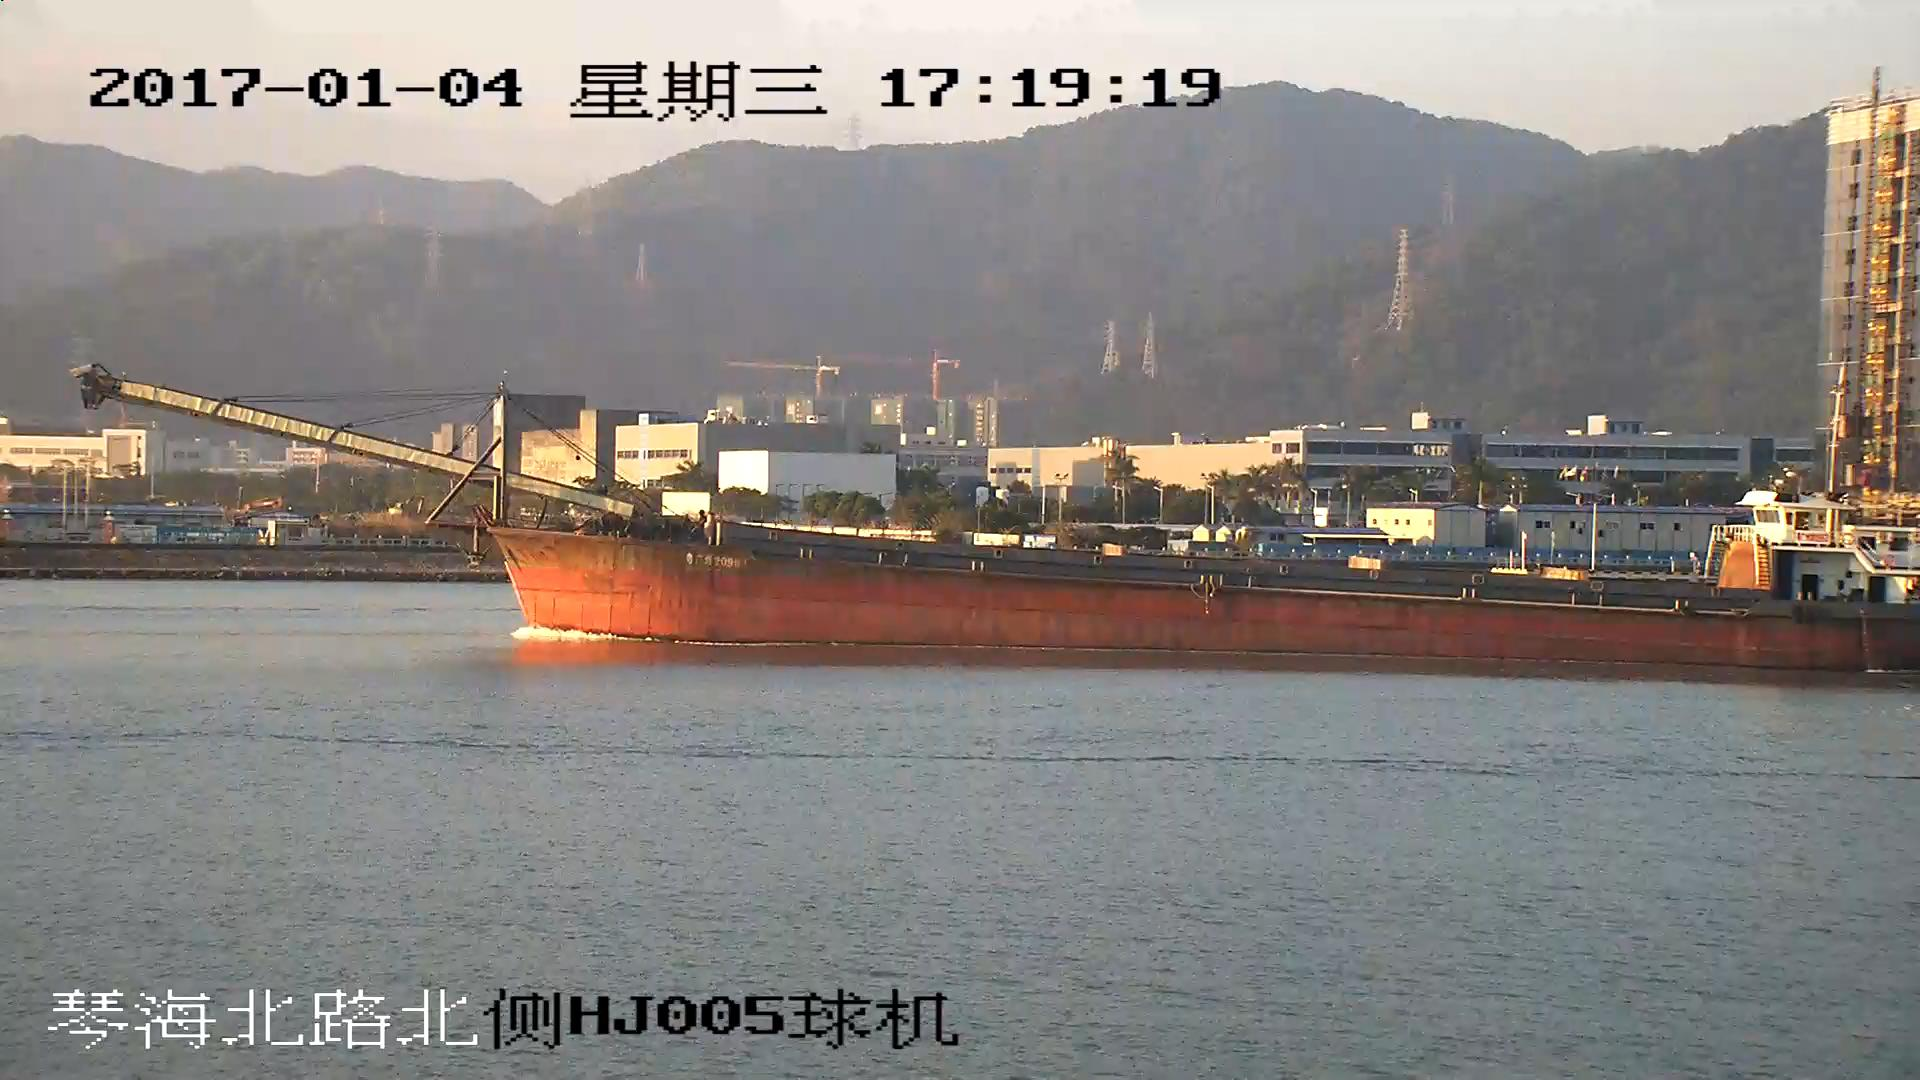bulk cargo carrier: (81, 368, 1920, 665)
